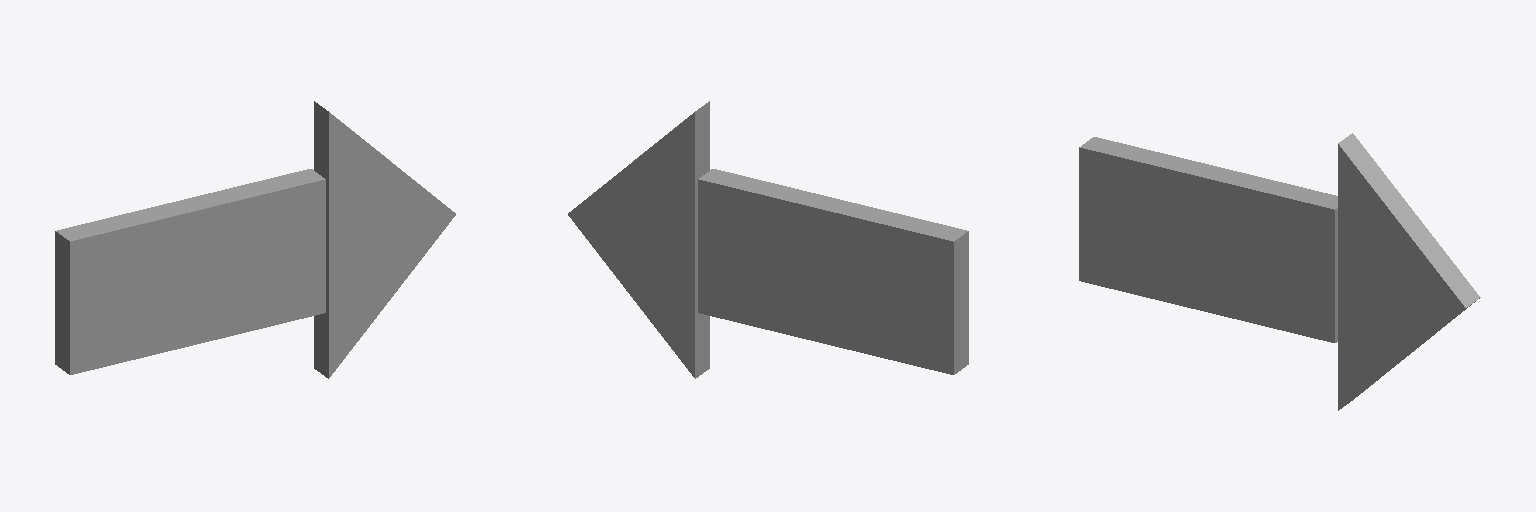
The model's file is arrow2.obj.
The picture shows the model from 3 angles: view 1: azimuth 30°, elevation 25°; view 2: azimuth 150°, elevation 25°; view 3: azimuth 330°, elevation 25°; orthographic projection.
Parts seen in each view (by area): view 1: Box; view 2: Box; view 3: Box.
Part boxes in pixels (bbox=[...]): Box: bbox=[55, 101, 455, 378]; Box: bbox=[568, 101, 968, 378]; Box: bbox=[1079, 133, 1480, 410].
Size of the model in its own units: 1.51 by 1 by 0.1.